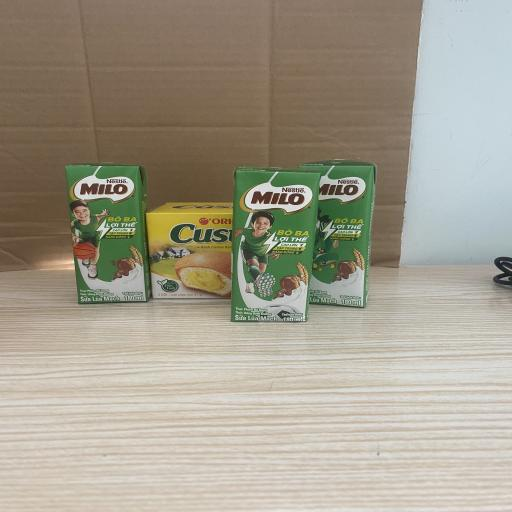custas: (146, 202, 233, 299)
milo: (230, 167, 321, 322), (65, 163, 151, 304), (298, 159, 376, 308)
